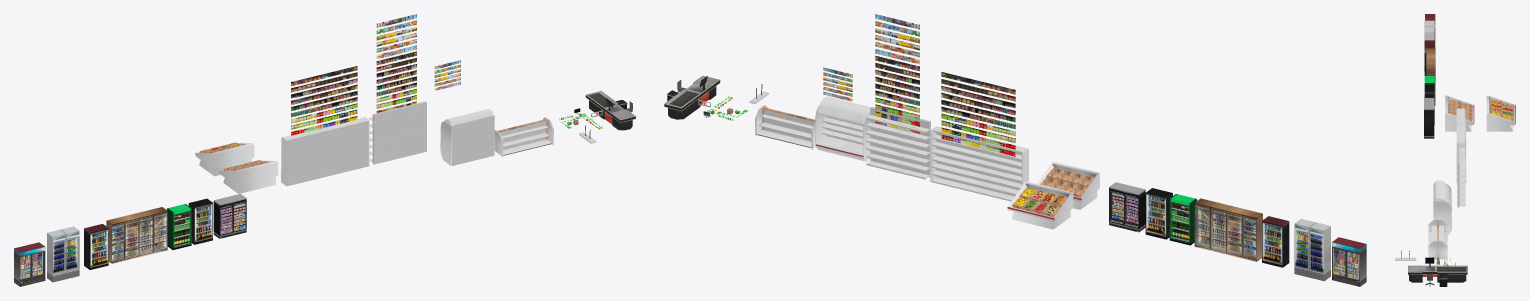
The model's file is supermarket_items_pack.glb.
3 views of the same model, side by side, from view 1: azimuth 30°, elevation 25°; view 2: azimuth 150°, elevation 25°; view 3: azimuth 270°, elevation 25° (orthographic). The views are drawn at different scales.
Visible parts, largest first — view 1: ShelfCorner, Cube.012, Fridge.003, Cube.015, Frdige.005, Cube.002, Cube.013, Frdige.004, Cube.020, Frdige.002, Cube.014, Fridge (+2 smaller); view 2: ShelfCorner, Cube.012, Fridge.003, Cube.015, Cube.020, Frdige.005, Cube.002, Cube.013, Frdige.004, Frdige.002, Cube.014, Fridge (+2 smaller); view 3: Cube.014, Cube.020, Cube.015, Cube.002, Cube.013, Cube.012, ShelfCorner, Frdige.004, Fridge.003, Frdige.005, Fridge, Fridge.002 (+3 smaller).
Boxes of the visible parts, x1,y1,x2,y2 form: ShelfCorner: [281, 117, 369, 186]; Cube.012: [369, 101, 426, 164]; Fridge.003: [106, 207, 167, 263]; Cube.015: [440, 109, 494, 166]; Frdige.005: [47, 226, 79, 282]; Cube.002: [494, 117, 553, 157]; Cube.013: [219, 160, 278, 193]; Frdige.004: [213, 194, 246, 238]; Cube.020: [195, 142, 254, 176]; Frdige.002: [14, 242, 45, 286]; Cube.014: [585, 91, 635, 130]; Fridge: [84, 224, 108, 269]; ShelfCorner: [930, 126, 1028, 201]; Cube.012: [866, 107, 930, 179]; Fridge.003: [1194, 198, 1262, 261]; Cube.015: [815, 96, 870, 161]; Cube.020: [1007, 181, 1073, 229]; Frdige.005: [1294, 218, 1330, 281]; Cube.002: [755, 105, 815, 149]; Cube.013: [1037, 161, 1099, 209]; Frdige.004: [1109, 182, 1145, 232]; Frdige.002: [1332, 237, 1366, 286]; Cube.014: [664, 75, 720, 119]; Fridge: [1262, 216, 1289, 267]; Cube.014: [1408, 257, 1467, 286]; Cube.020: [1486, 95, 1515, 131]; Cube.015: [1433, 180, 1452, 234]; Cube.002: [1428, 219, 1447, 260]; Cube.013: [1445, 95, 1474, 131]; Cube.012: [1457, 142, 1465, 207]; ShelfCorner: [1456, 108, 1466, 182]; Frdige.004: [1424, 97, 1434, 138]; Fridge.003: [1426, 48, 1435, 105]; Frdige.005: [1424, 20, 1434, 70]; Fridge: [1424, 40, 1434, 75]; Fridge.002: [1424, 84, 1434, 124].
Bounding box in the file's own units: 22.88 × 5.6 × 4.51.
6 materials, 3 textured.
